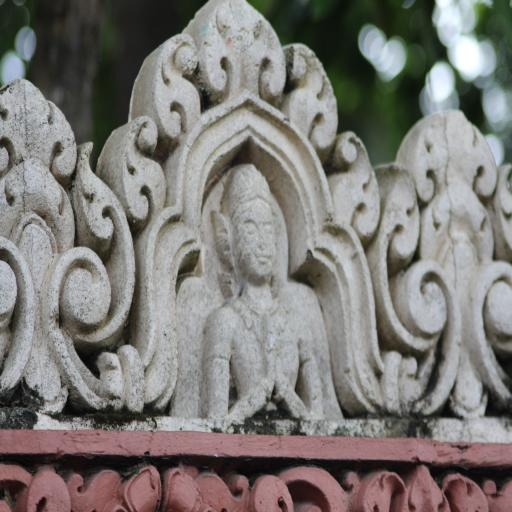lua: (0, 77, 143, 414), (374, 120, 512, 408), (202, 3, 291, 100), (102, 104, 164, 217), (280, 40, 340, 153), (327, 132, 381, 230), (144, 46, 199, 140)
than: (194, 159, 331, 427)
